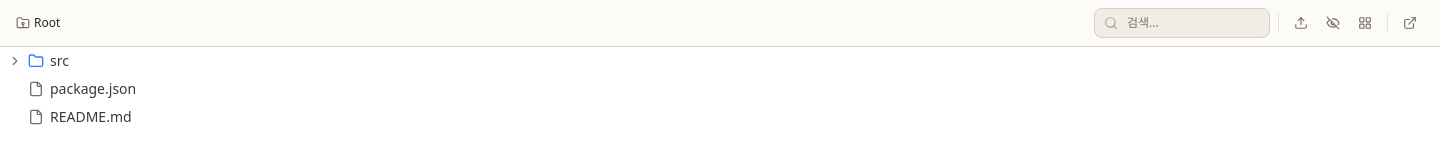
Scenario: FileExplorerTab › shows search results from server API when typing
Check: the text "src" is shown, box [50, 51, 69, 71]
Type "App" into the field with placeholder "검색..." at (1182, 23), box [1094, 8, 1270, 38]
Wait 300 ms
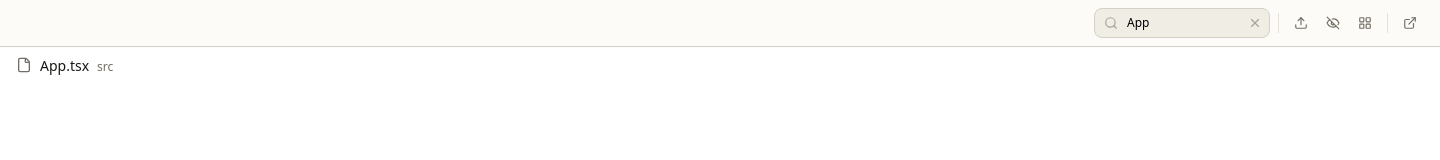
Check: the text "App.tsx" is shown, box [40, 56, 89, 75]
